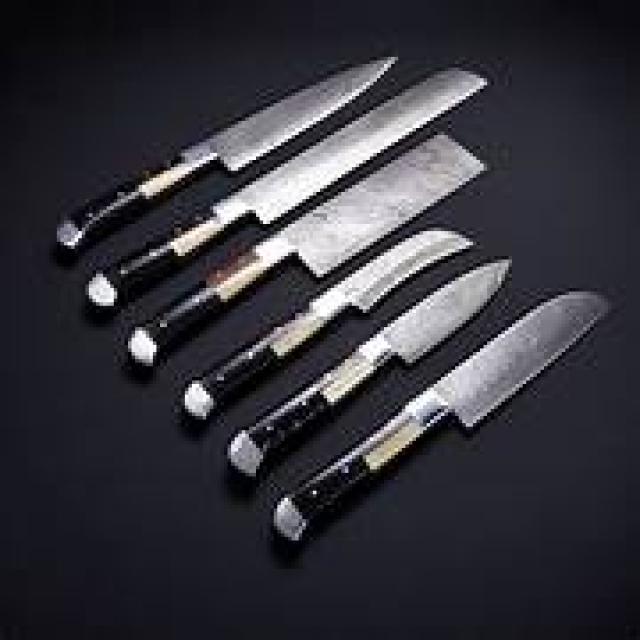Knife: (89, 71, 484, 306), (277, 292, 604, 537), (132, 135, 480, 359), (57, 57, 391, 249), (231, 260, 508, 473), (181, 231, 469, 416)
